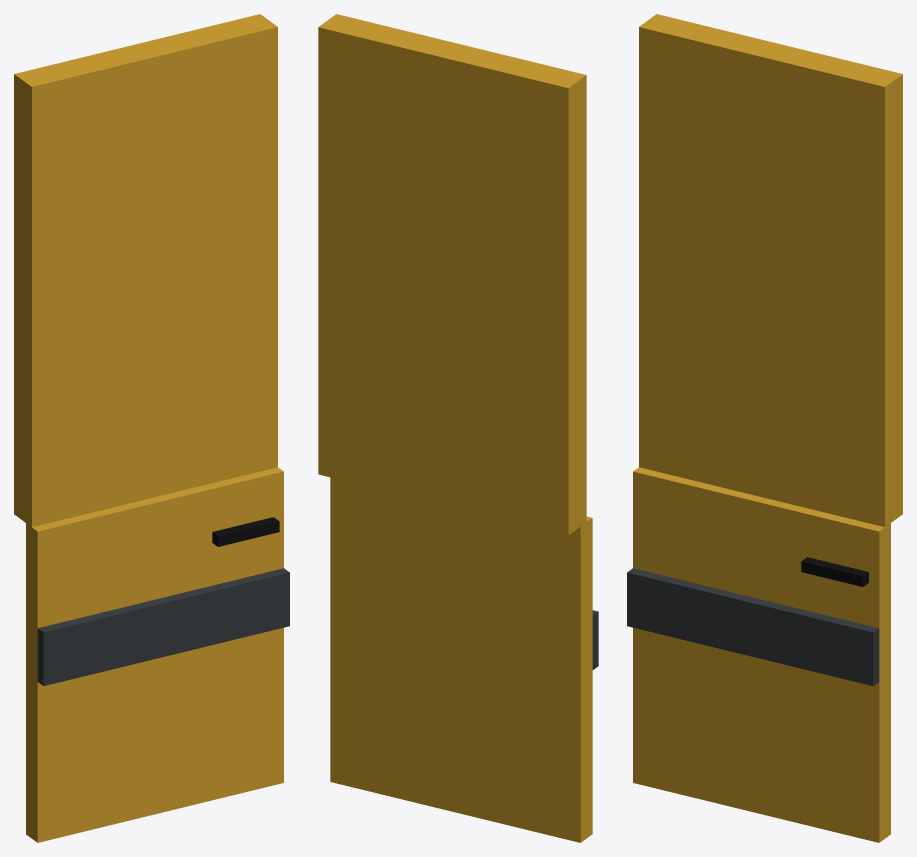
The model's file is food_truck_side_door.glb.
The picture shows the model from 3 angles, left to right: view 1: azimuth 30°, elevation 25°; view 2: azimuth 150°, elevation 25°; view 3: azimuth 330°, elevation 25°; orthographic projection.
Visible parts, largest first — view 1: body:compound; view 2: body:compound; view 3: body:compound.
Boxes of the visible parts, x1,y1,x2,y2 form: body:compound: (14,14,289,842); body:compound: (318,14,598,842); body:compound: (627,14,902,842).
Size of the model in its own units: 0.75 by 2.19 by 0.1562.
